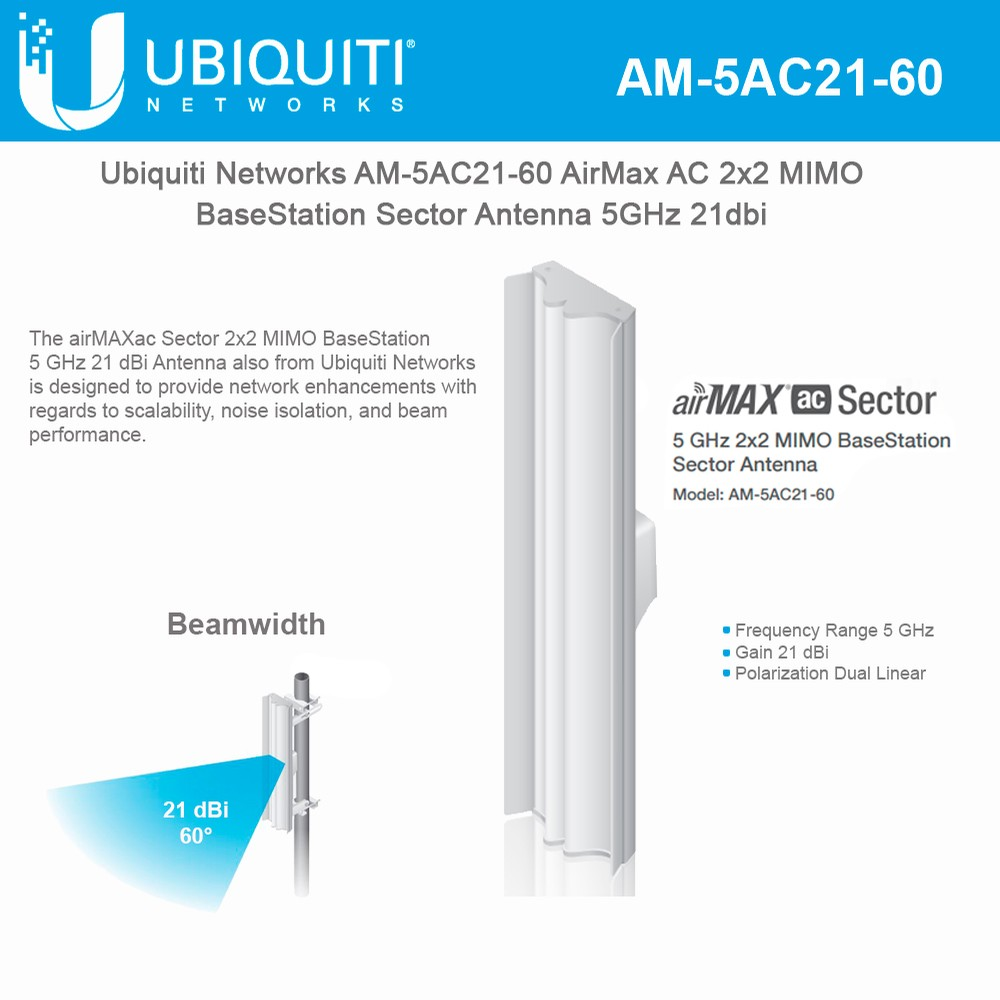sa: (484, 259, 665, 904)
